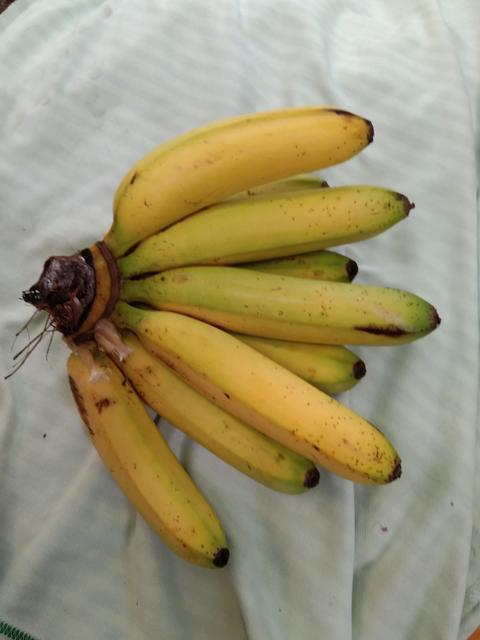ripe: (141, 306, 413, 489), (113, 94, 396, 254), (60, 354, 235, 571), (155, 245, 457, 350), (142, 163, 420, 258)
